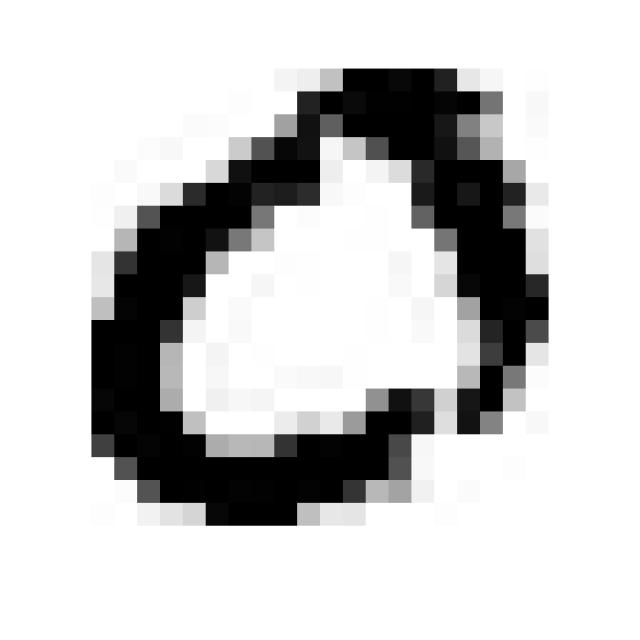5 -five-: (71, 41, 566, 546)
